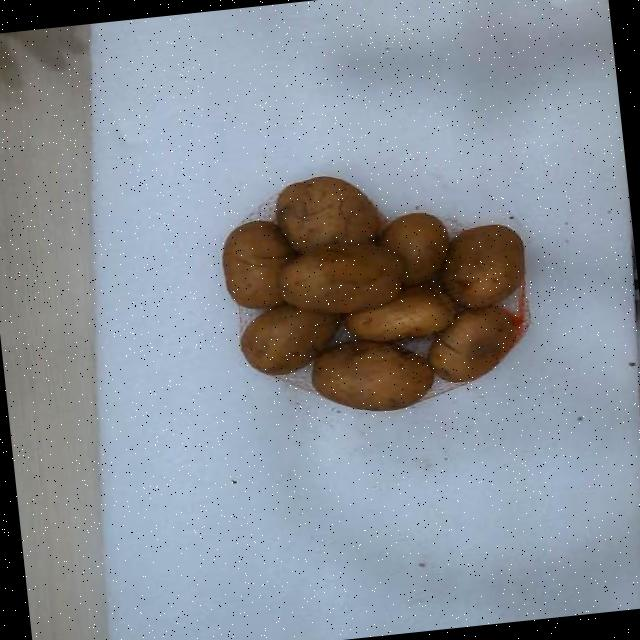potato: (311, 339, 432, 410), (277, 243, 402, 311), (276, 176, 379, 250), (240, 303, 340, 374), (440, 223, 524, 306), (428, 305, 514, 381), (222, 220, 293, 306), (346, 285, 453, 340), (379, 211, 448, 284)
